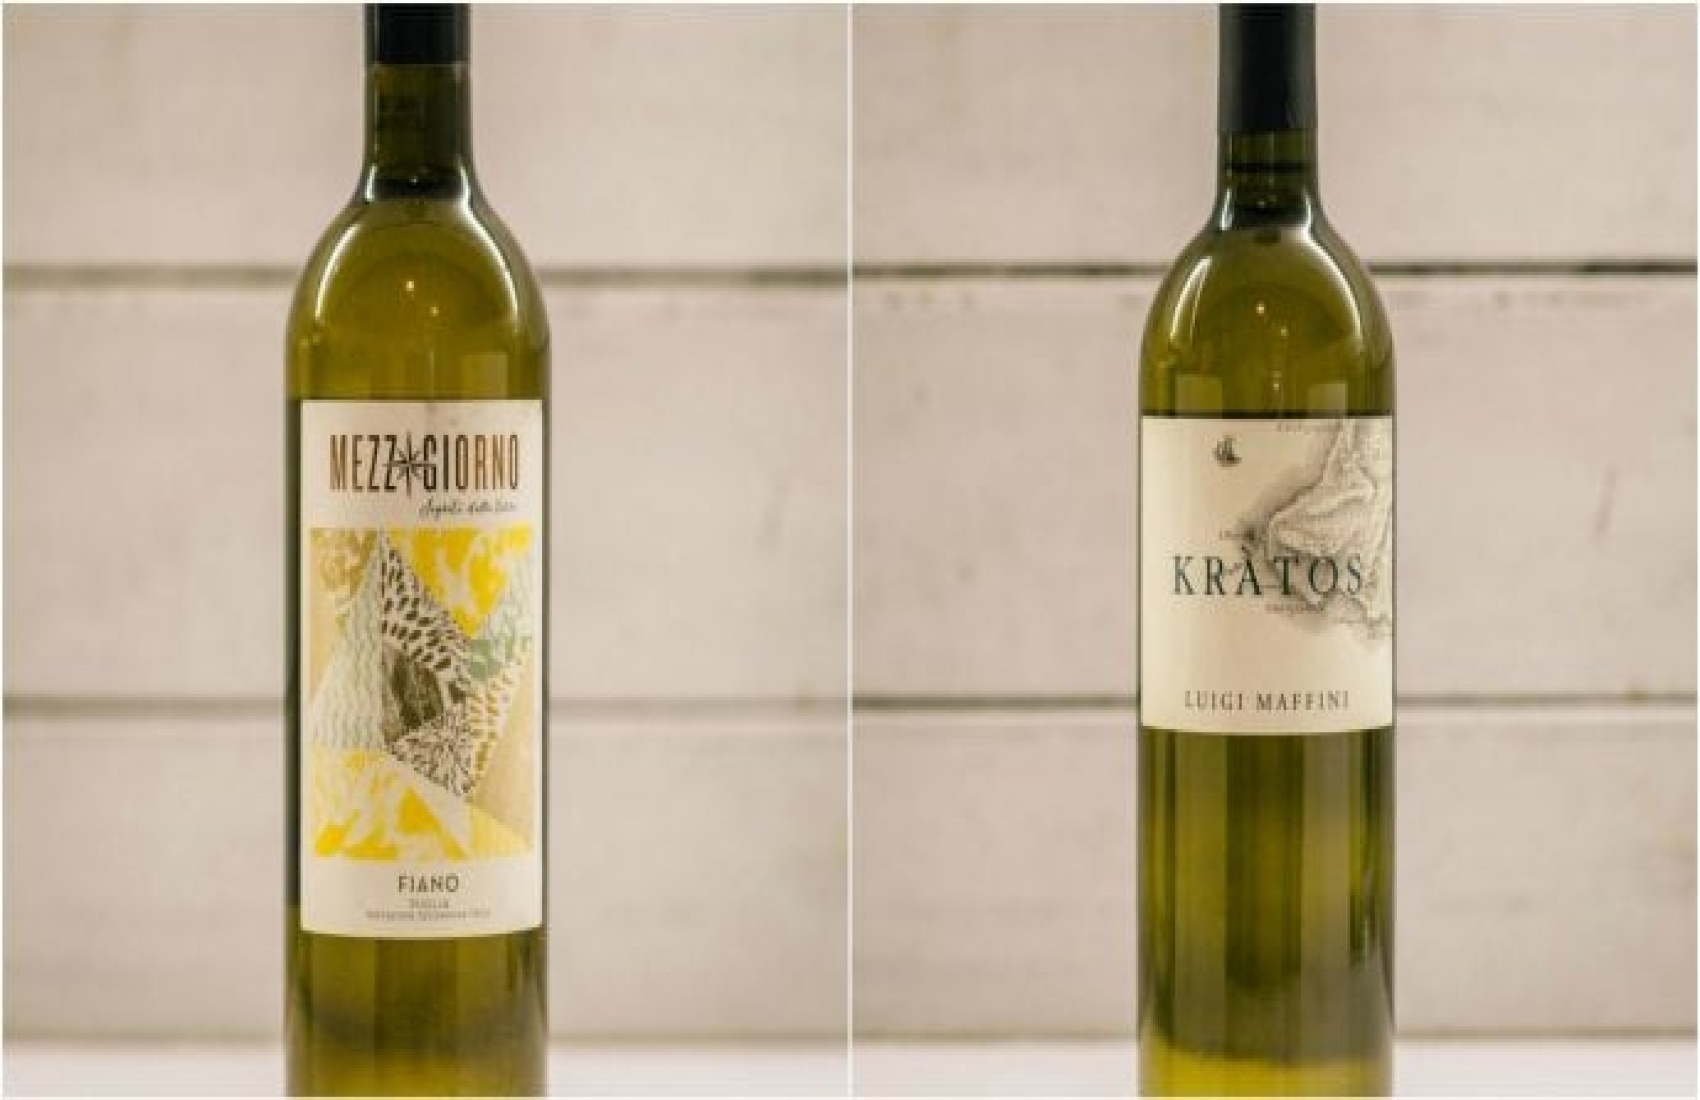wine: (278, 1, 554, 1098), (1133, 1, 1404, 1094)
